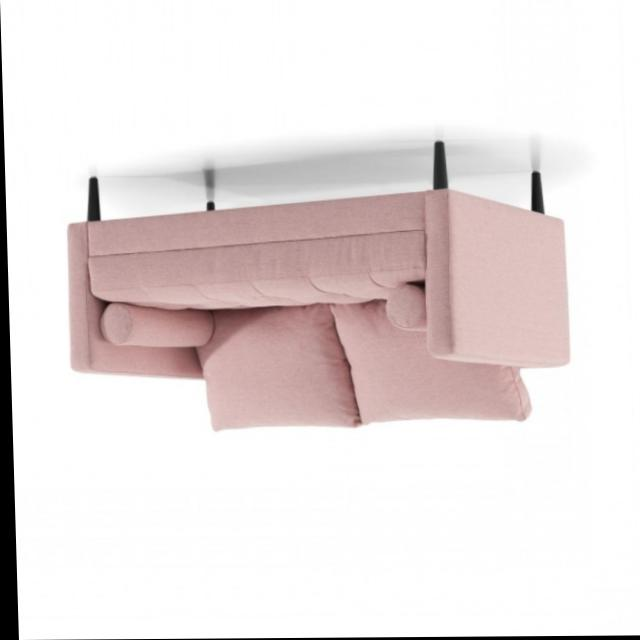Sofa: (62, 139, 572, 435)
